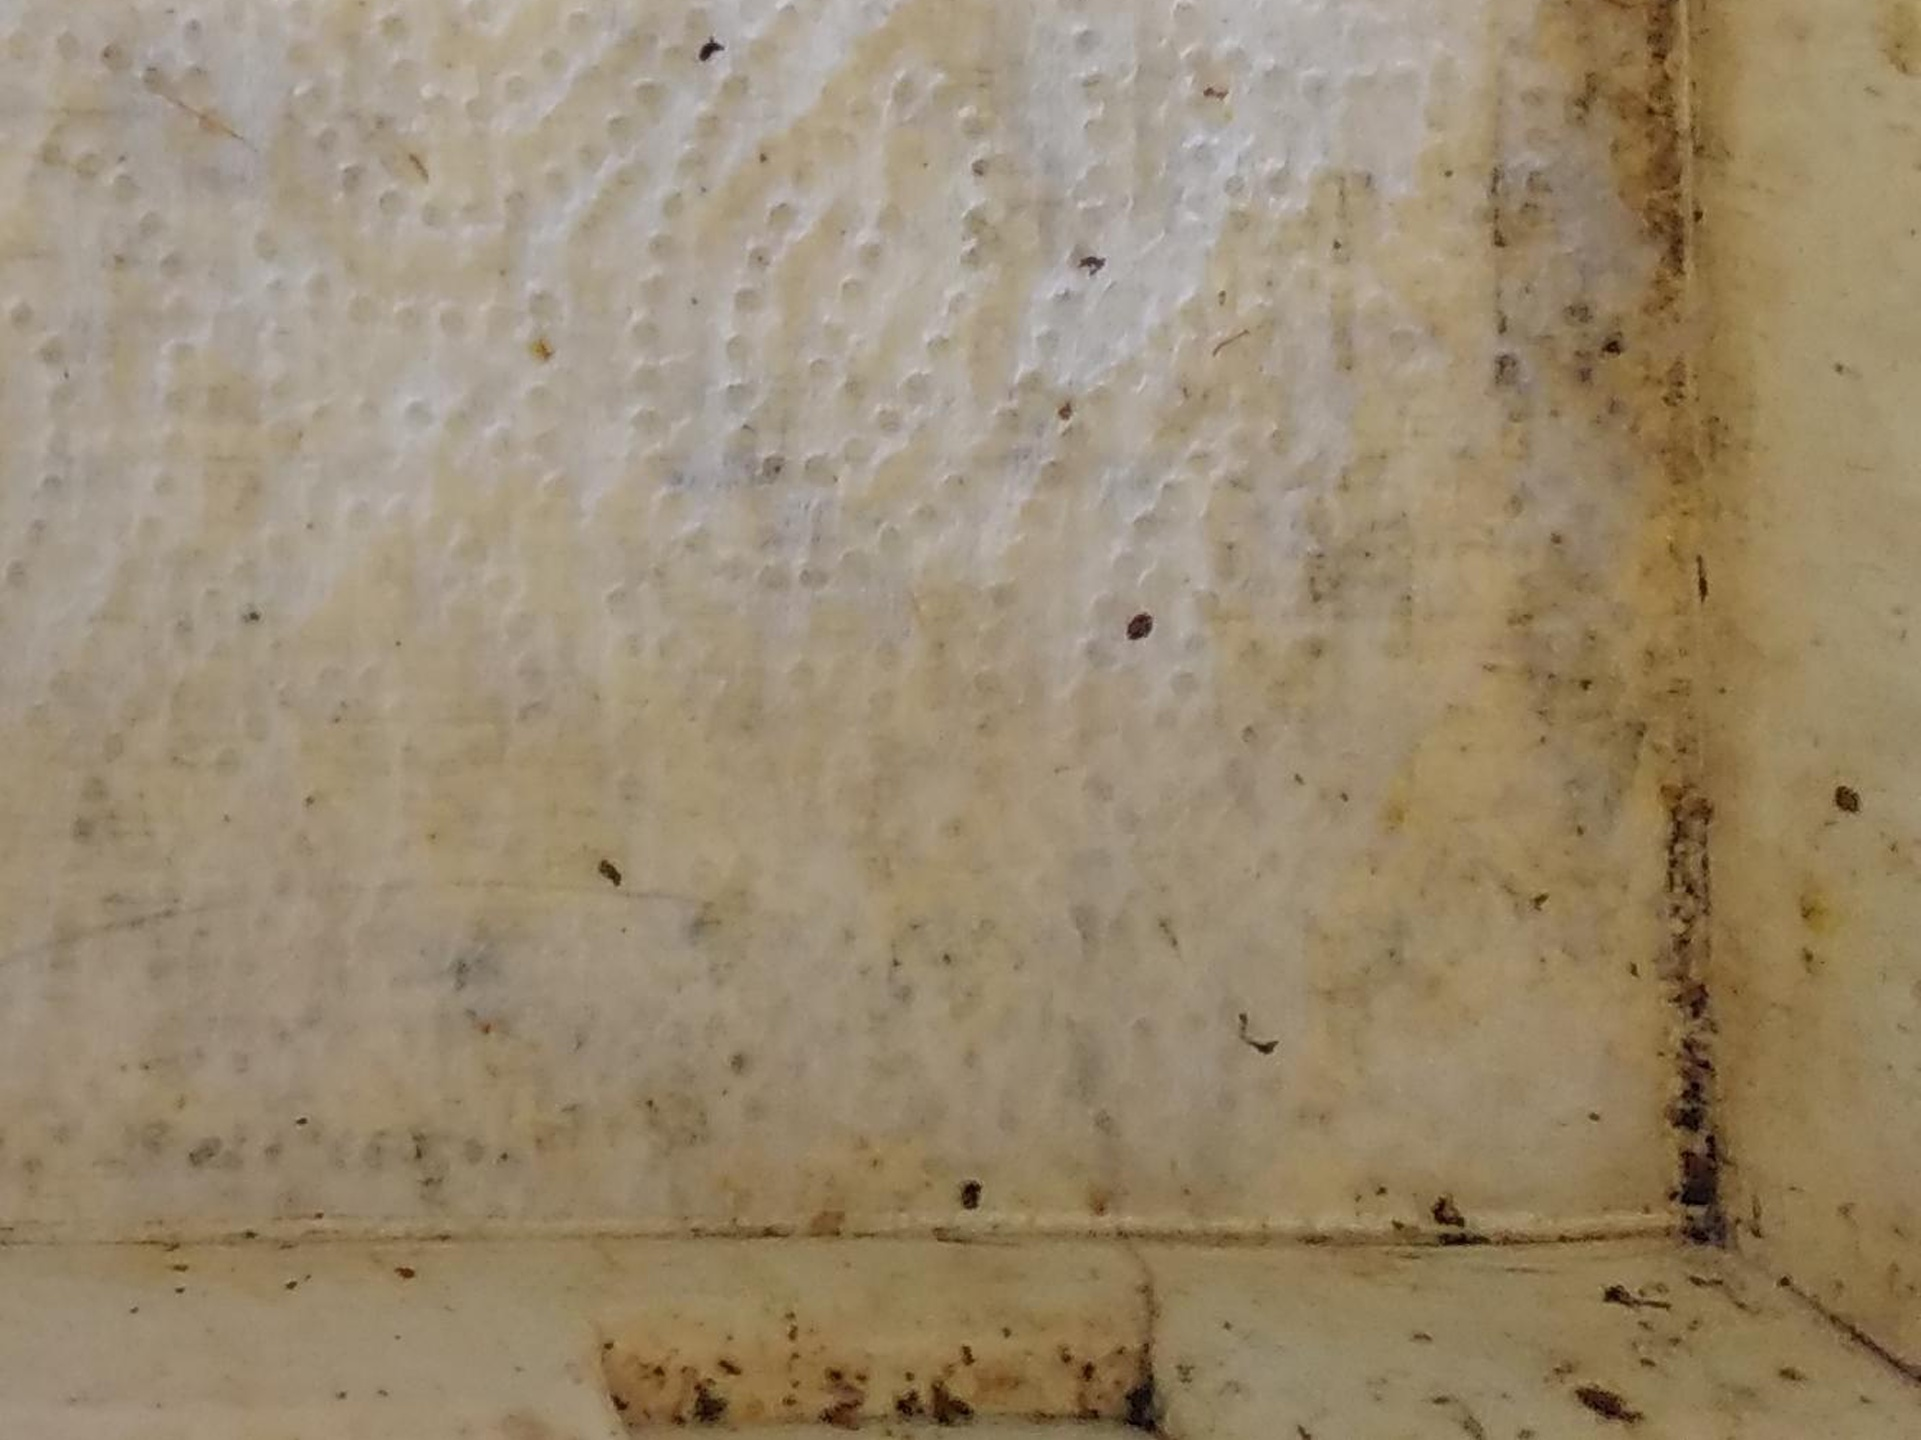Varroa: (1118, 614, 1147, 649)
